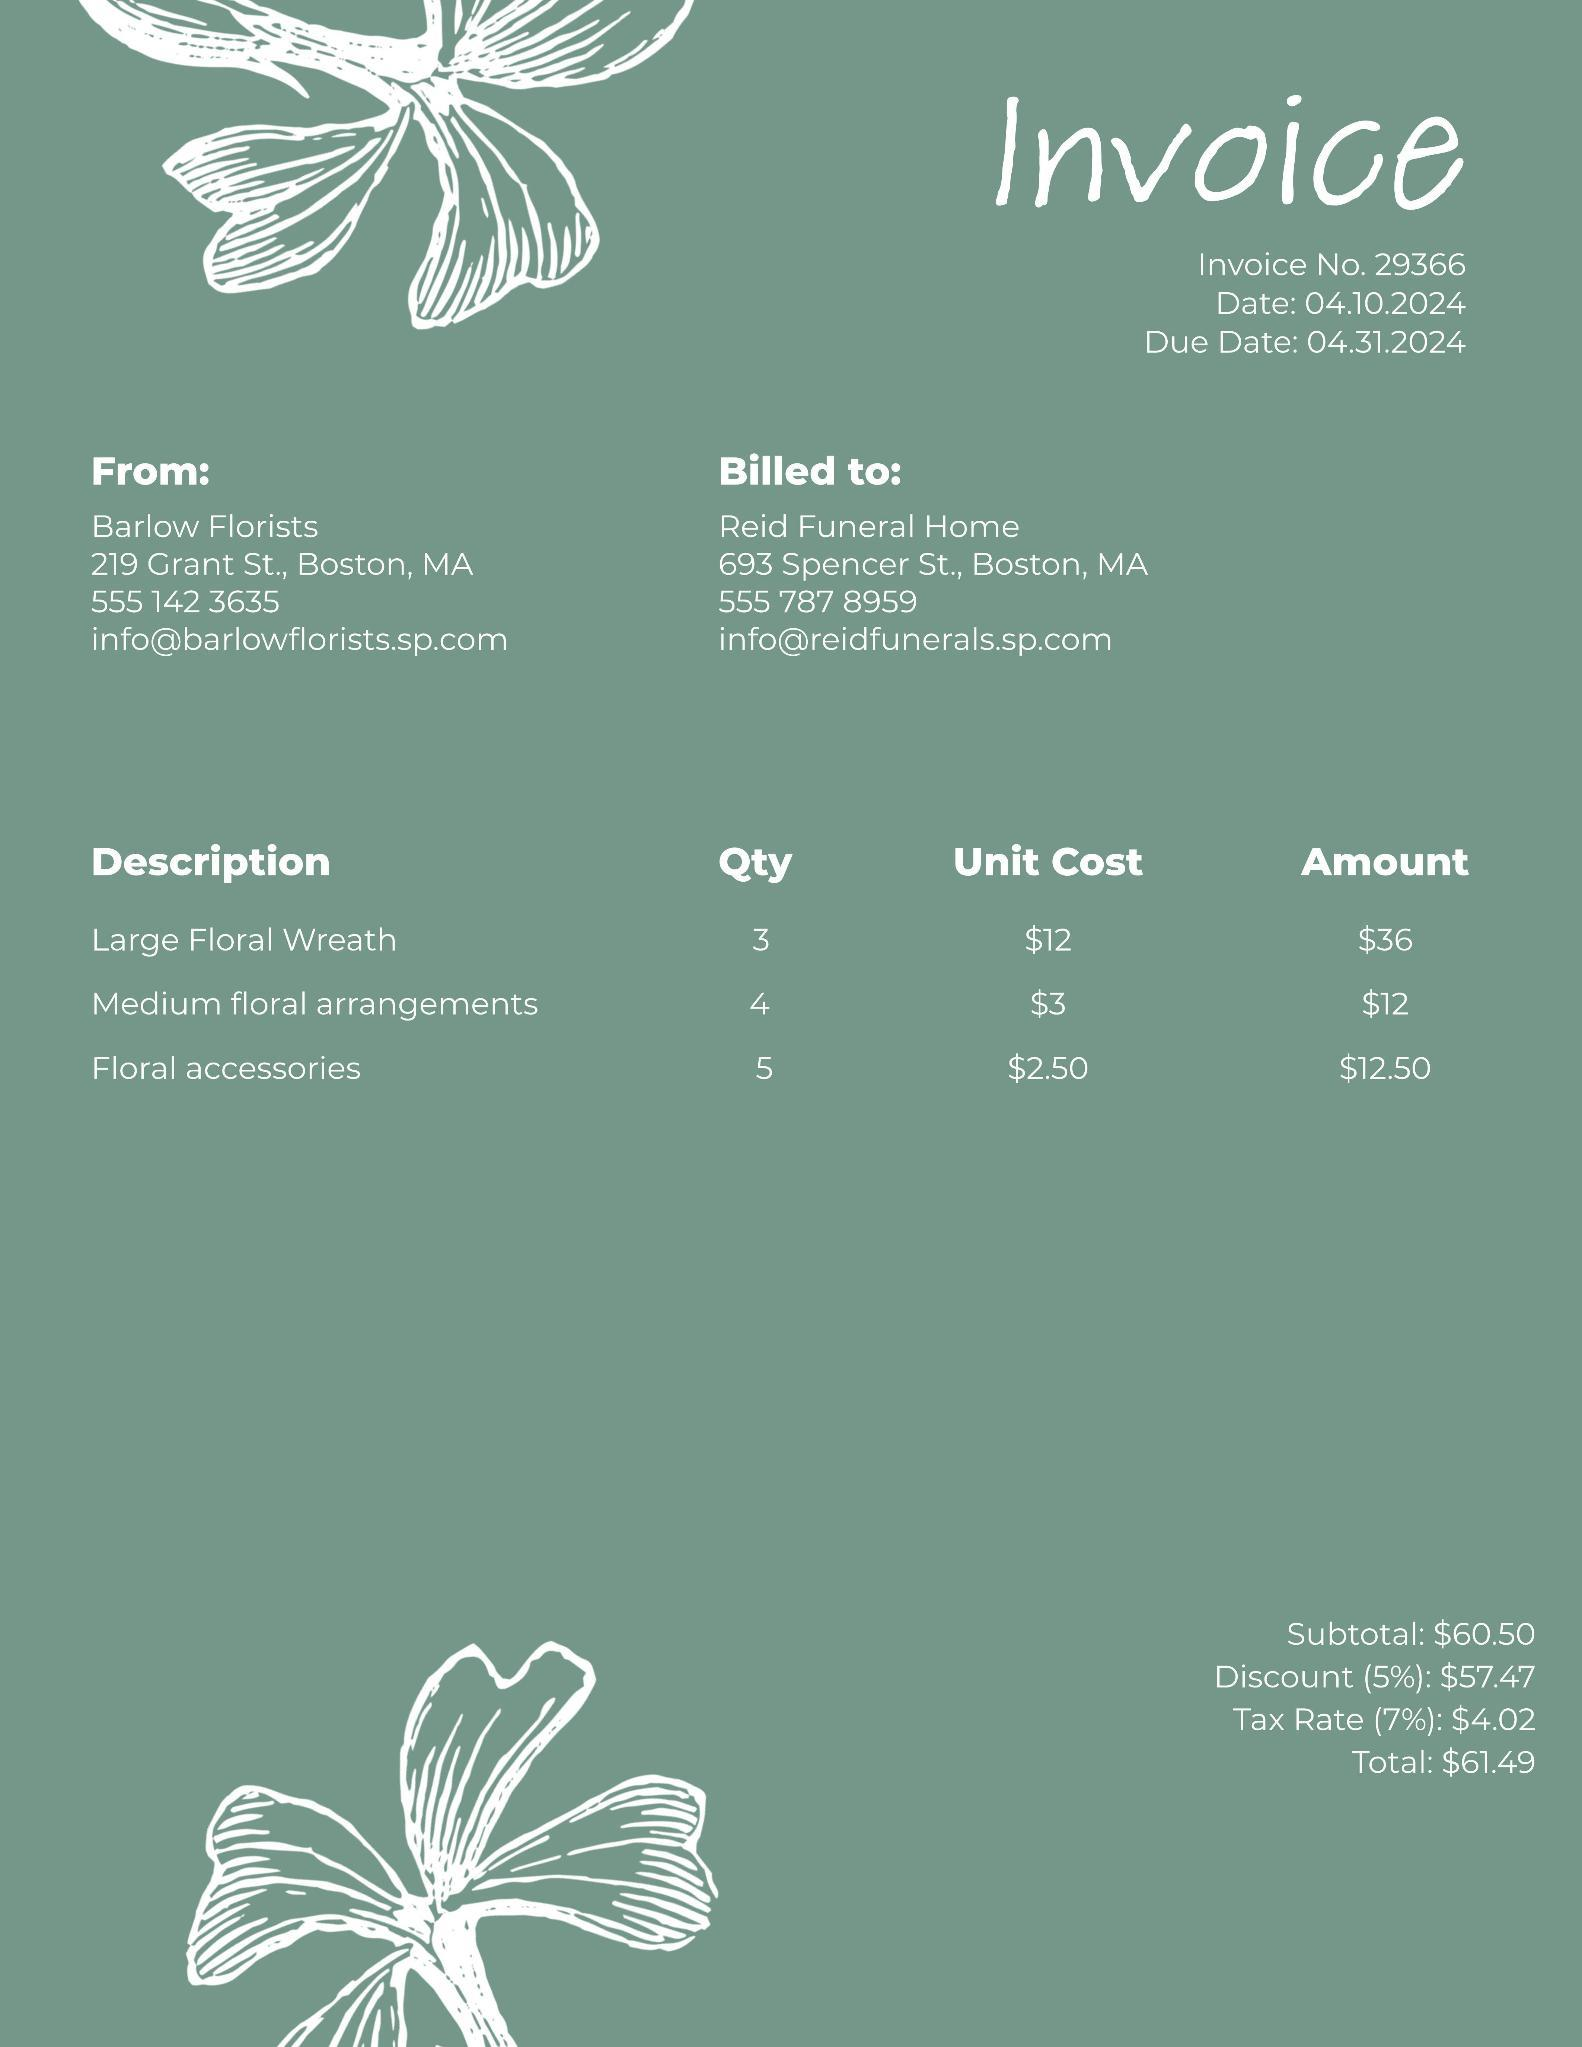ROI: (65, 817, 1506, 1150), (683, 439, 1193, 695), (61, 430, 548, 685), (1133, 1540, 1560, 1826), (951, 68, 1472, 219), (1107, 228, 1502, 394)
